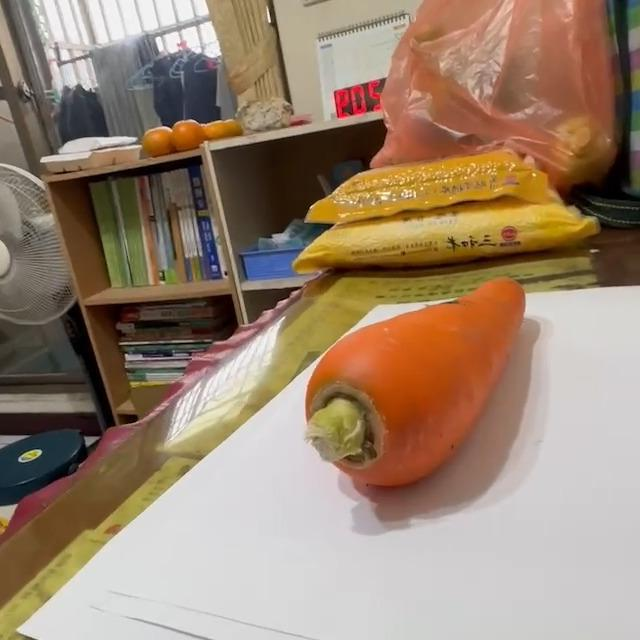carrot: (302, 277, 526, 489)
